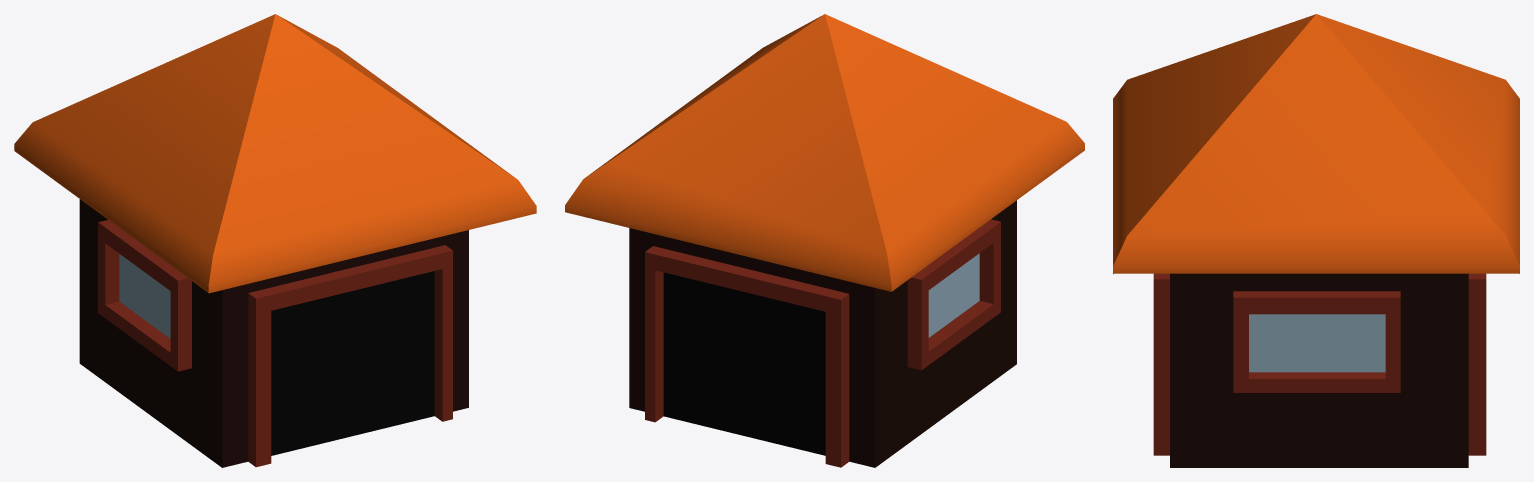
The model's file is UnitBuilding.FBX.
3 renders of one model, left to right at view 1: azimuth 30°, elevation 25°; view 2: azimuth 150°, elevation 25°; view 3: azimuth 270°, elevation 25°, orthographic. The views are drawn at different scales.
Parts seen in each view (by area): view 1: Pyramid001; view 2: Pyramid001; view 3: Pyramid001.
Part boxes in pixels (bbox=[...]): Pyramid001: bbox=[14, 14, 536, 467]; Pyramid001: bbox=[565, 14, 1084, 467]; Pyramid001: bbox=[1113, 14, 1519, 467].
Bounding box in the file's own units: 262 × 268 × 284.
